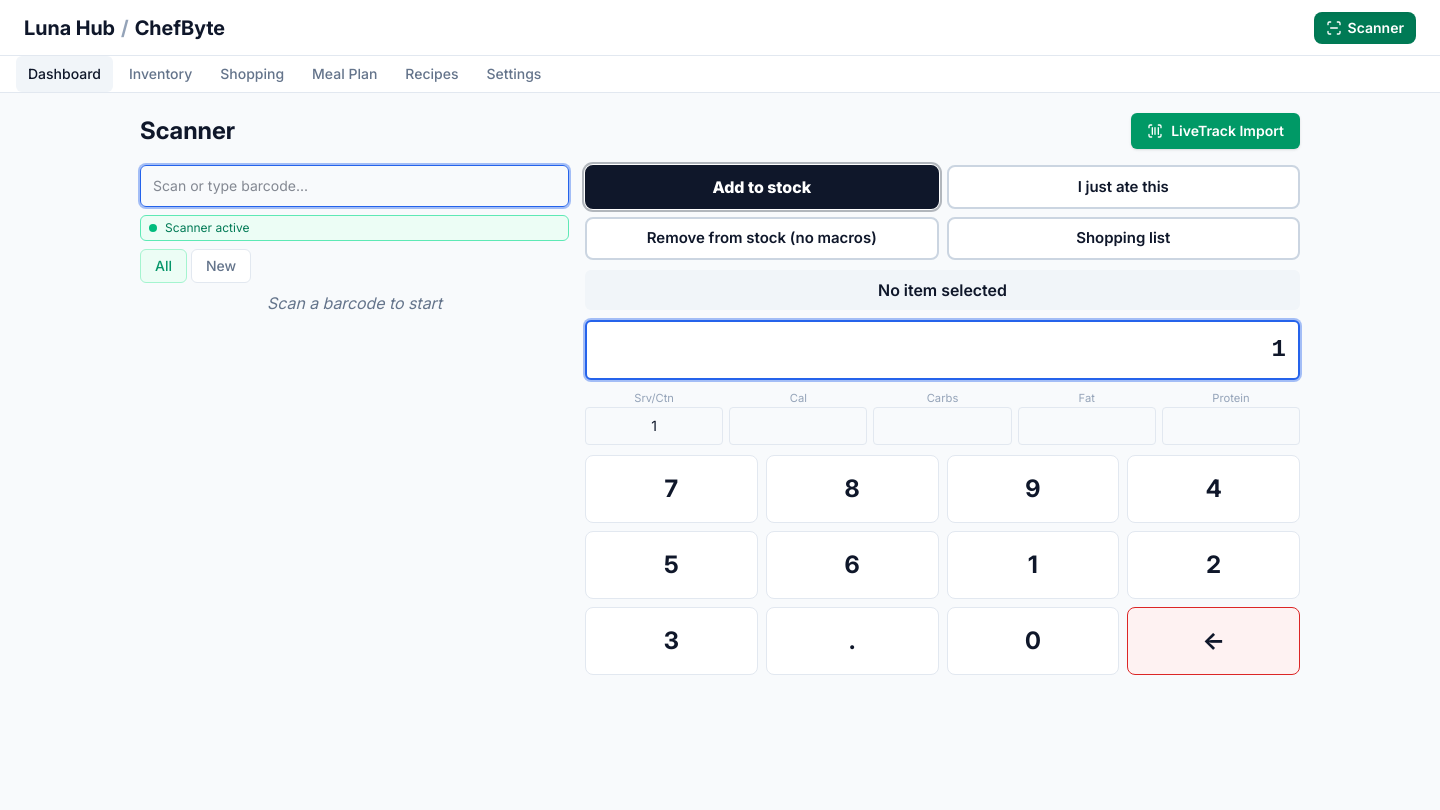
Test: ScannerPage — in-flight barcode coordination › queues a 2nd same-barcode scan and runs it after the 1st pipeline completes
The width and height of the screenshot is (1440, 810).
Type "013562000043" into the field with test id "barcode-input" at (354, 186), box [140,165,569,207]
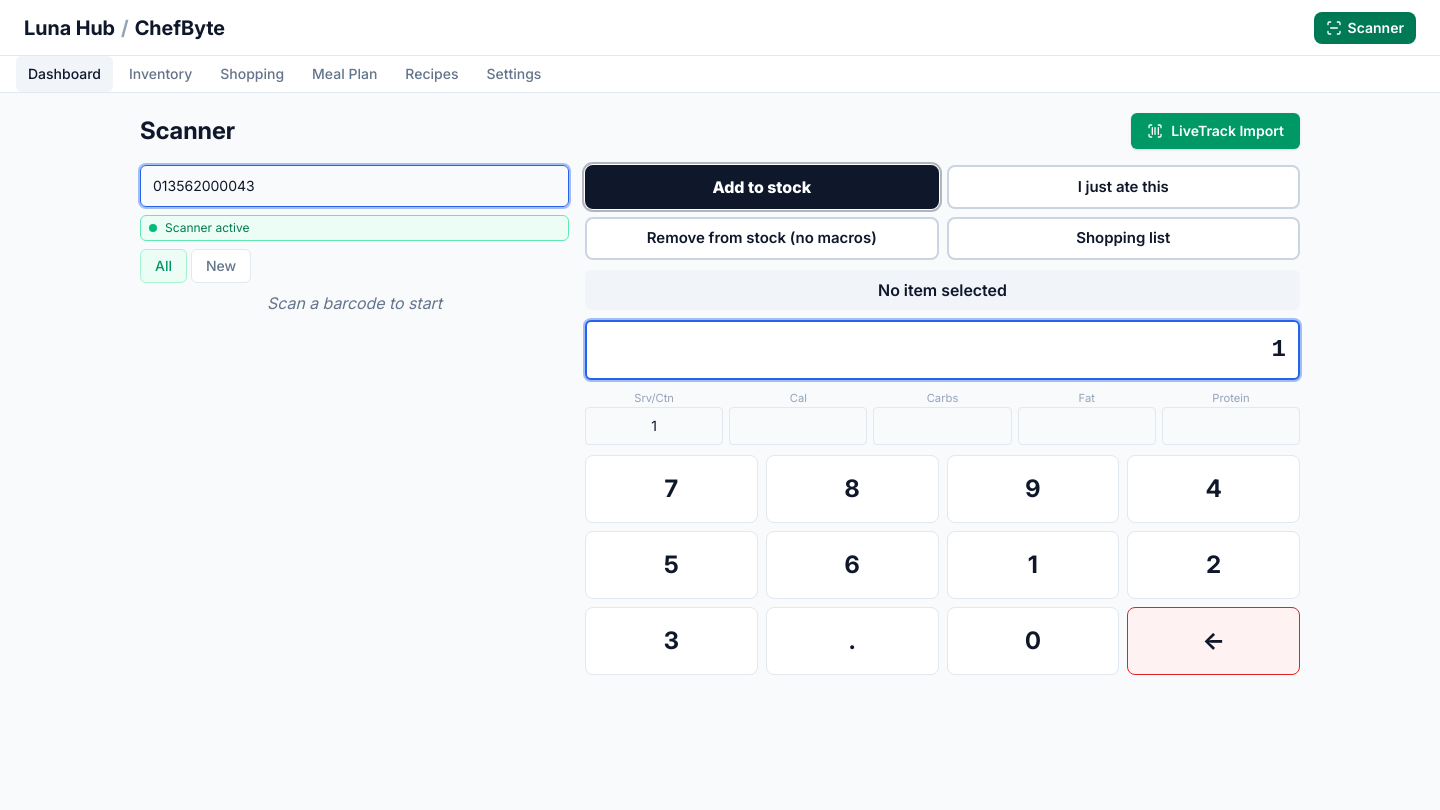
Press Enter
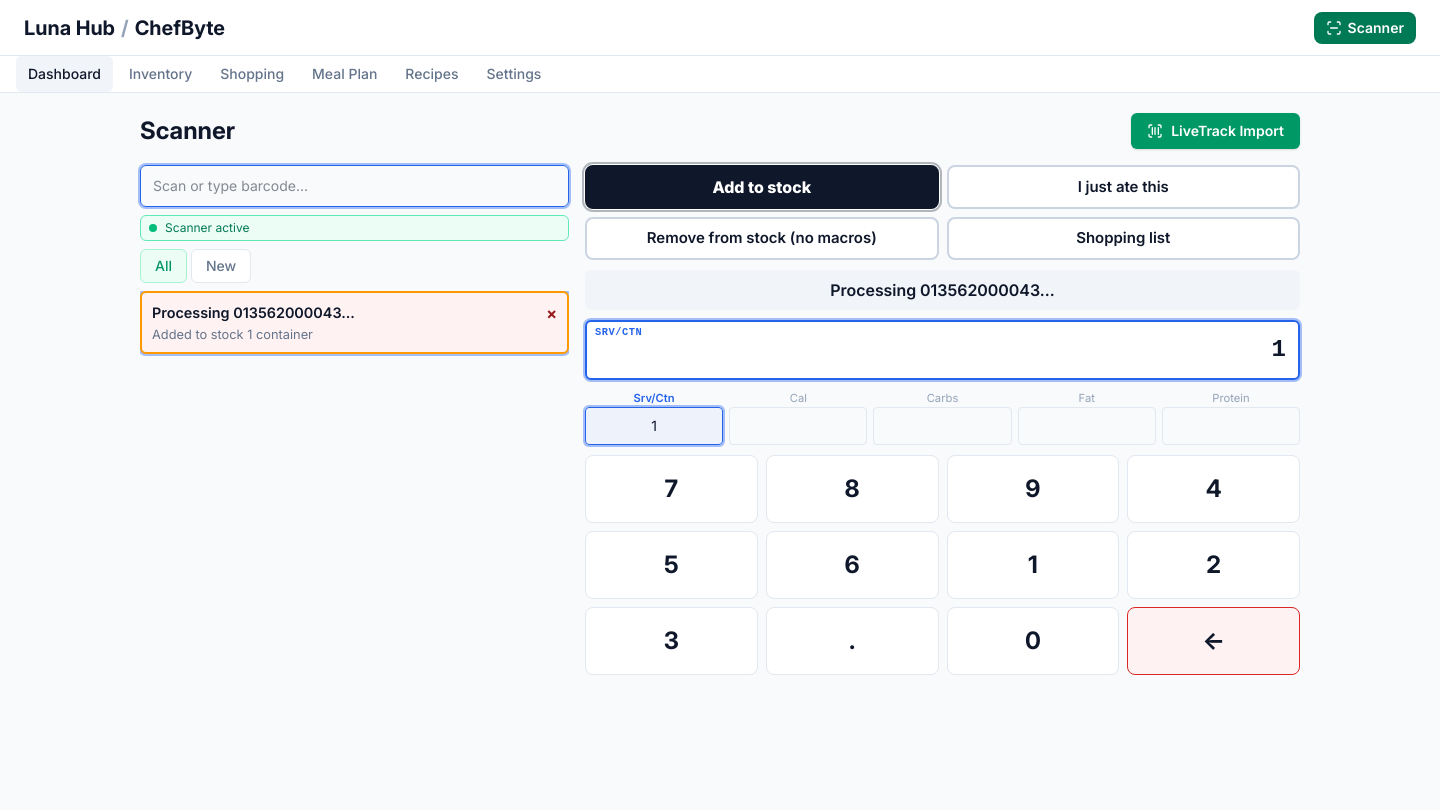
Type "013562000043" into the field with test id "barcode-input" at (354, 186), box [140,165,569,207]
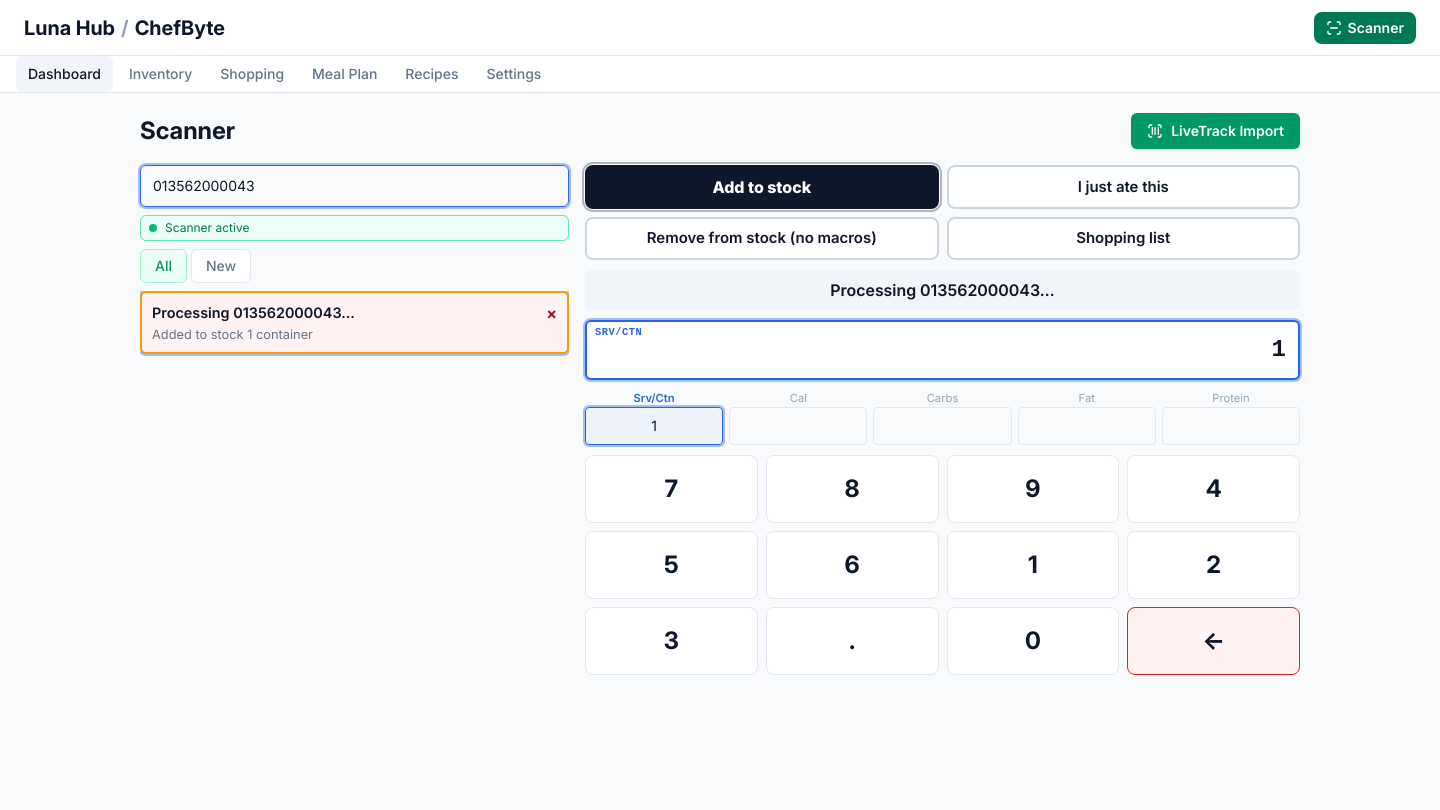
Press Enter
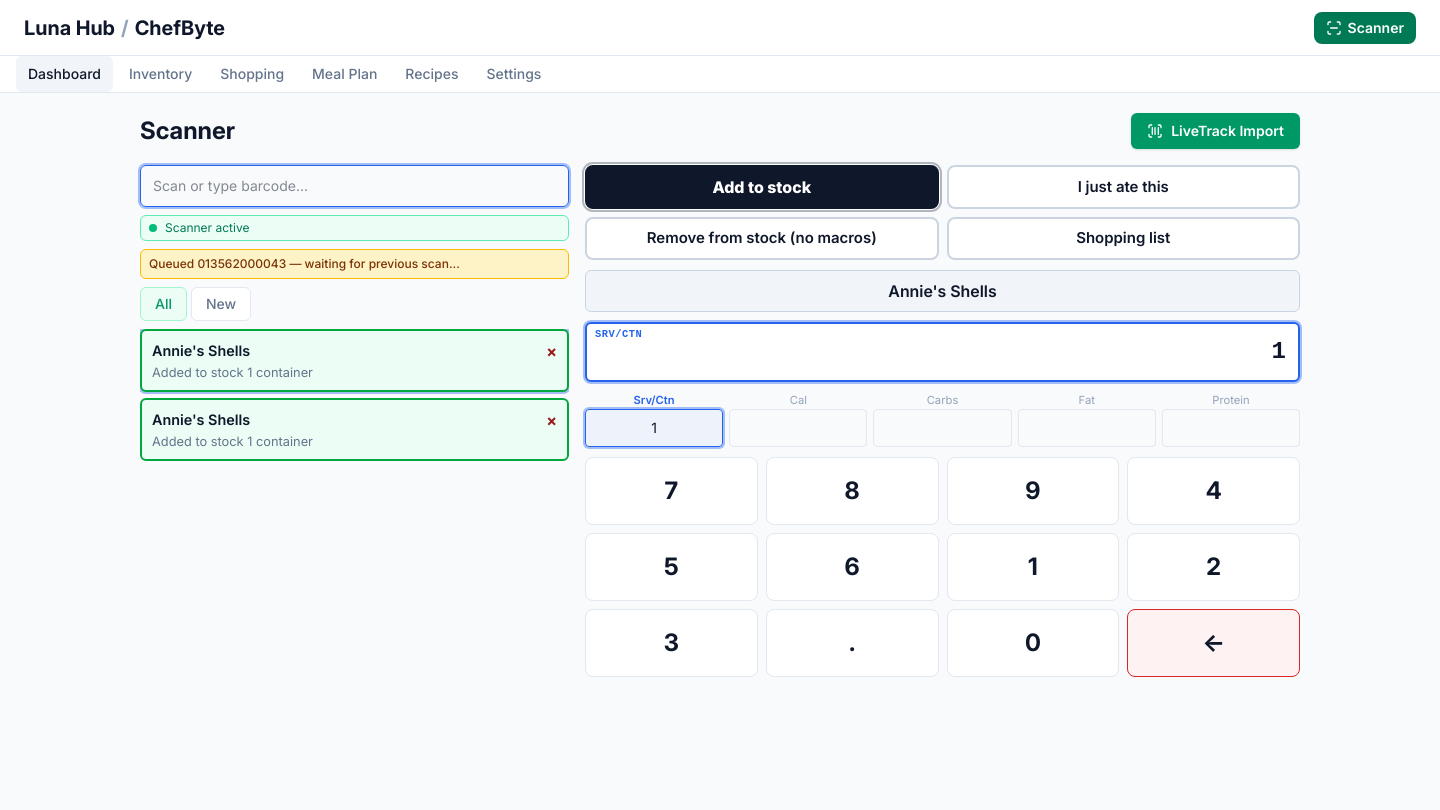
Expected: the message "Queued 013562000043 — waiting for previous scan..." is shown, [140,249,569,279]
Expected: the message with test id "dropped-scan-toast" shows "Queued", [149,256,460,271]
